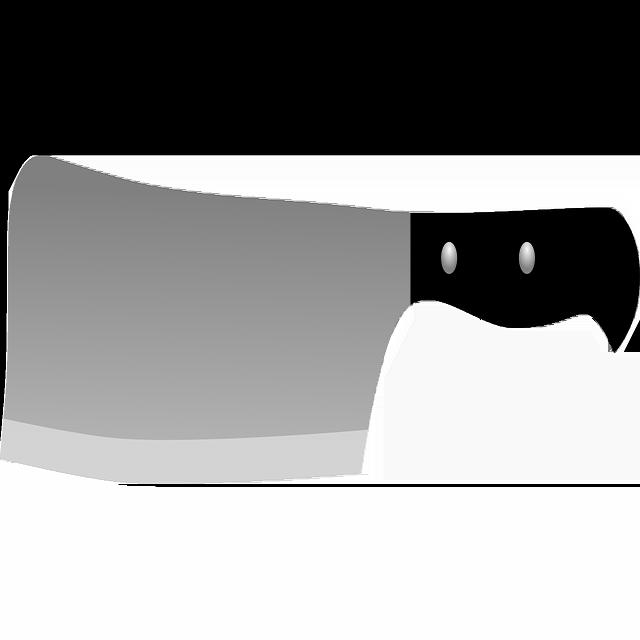Knife: (2, 158, 640, 481)
